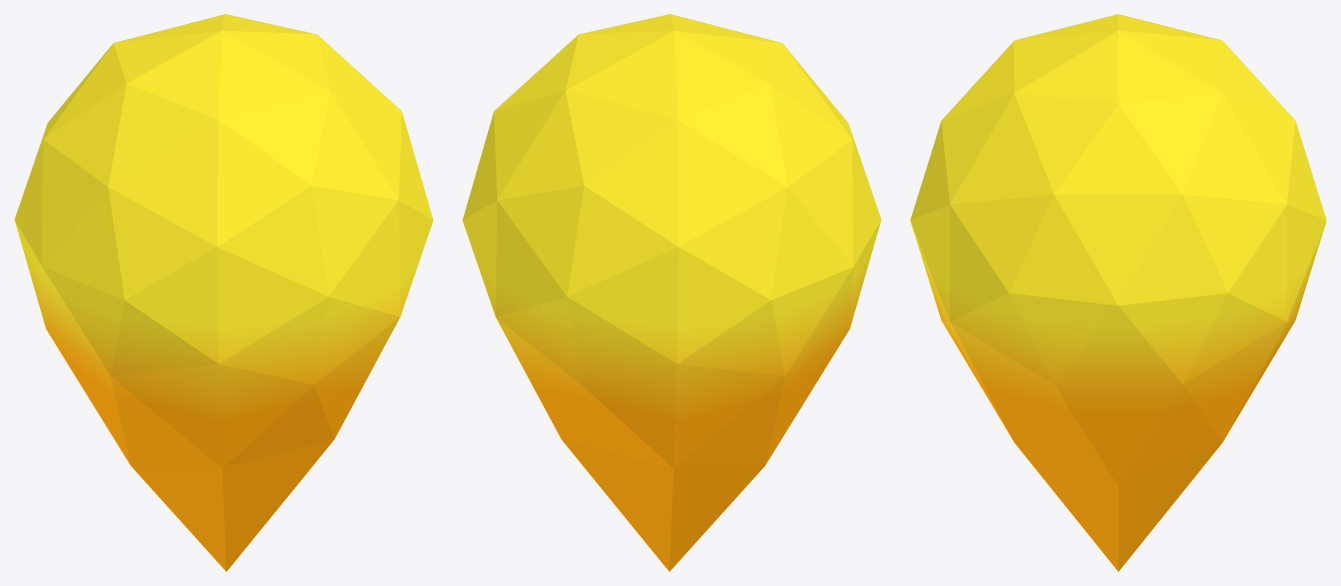
Rendered from mustard_ball.glb.
3 views of the same model, side by side, from view 1: azimuth 30°, elevation 25°; view 2: azimuth 150°, elevation 25°; view 3: azimuth 270°, elevation 25° (orthographic).
Visible parts, largest first — view 1: mustard_ball; view 2: mustard_ball; view 3: mustard_ball.
Part boxes in pixels (bbox=[...]): mustard_ball: bbox=[14, 14, 433, 571]; mustard_ball: bbox=[462, 14, 881, 571]; mustard_ball: bbox=[910, 14, 1326, 571].
Size of the model in its own units: 0.2909 by 0.4154 by 0.2909.
1 material, 1 textured.
